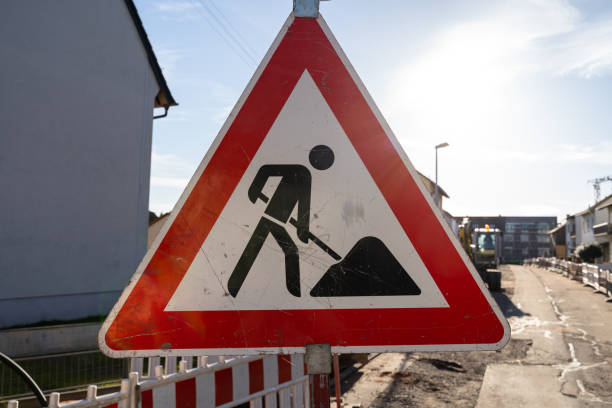yol_calismasi_levha: (99, 7, 509, 350)
